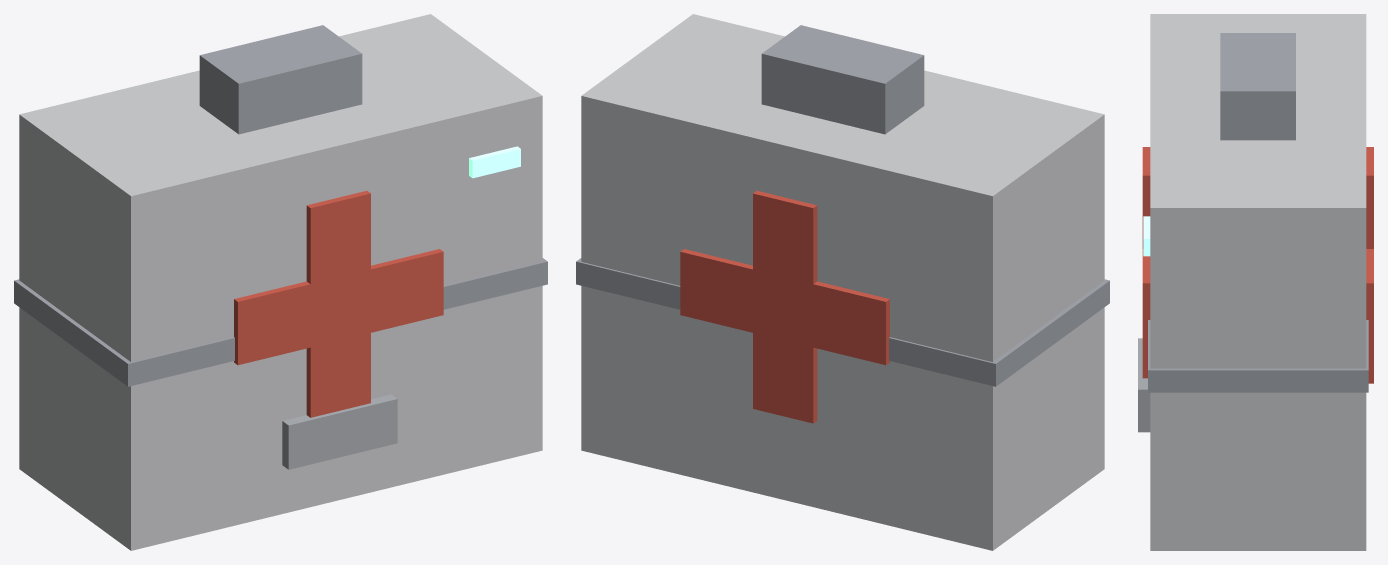
Rendered from prop_medkit.glb.
3 renders of one model, left to right at view 1: azimuth 30°, elevation 25°; view 2: azimuth 150°, elevation 25°; view 3: azimuth 270°, elevation 25°, orthographic. The views are drawn at different scales.
Parts seen in each view (by area): view 1: prop_medkit; view 2: prop_medkit; view 3: prop_medkit.
Part boxes in pixels (x1=…): prop_medkit: x1=14, y1=14, x2=547, y2=550; prop_medkit: x1=576, y1=14, x2=1109, y2=550; prop_medkit: x1=1138, y1=14, x2=1373, y2=550.
Bounding box in the file's own units: 0.3468 × 0.32 × 0.1746.
